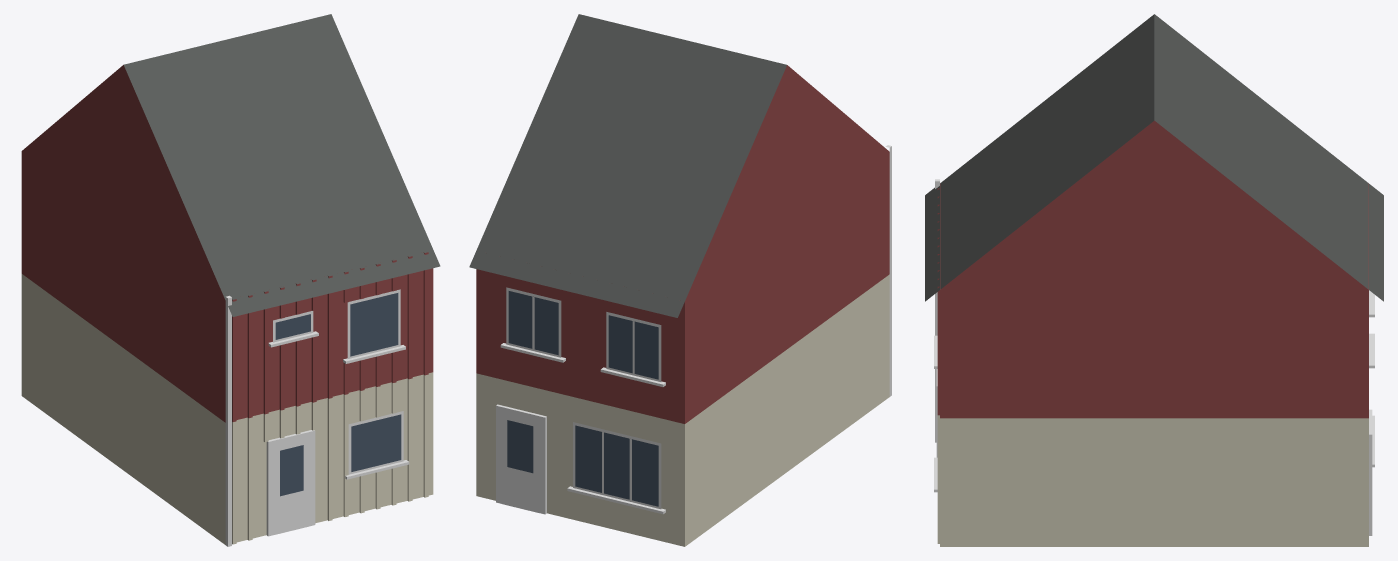
Rendered from zo-g3-red-clad__red__2__gable__long__solid.glb.
3 renders of one model, left to right at view 1: azimuth 30°, elevation 25°; view 2: azimuth 150°, elevation 25°; view 3: azimuth 270°, elevation 25°, orthographic. The views are drawn at different scales.
Parts seen in each view (by area): view 1: zo-g3-red-clad__red__2__gable__long__solid; view 2: zo-g3-red-clad__red__2__gable__long__solid; view 3: zo-g3-red-clad__red__2__gable__long__solid.
Part boxes in pixels (x1,y1,x2,y2): zo-g3-red-clad__red__2__gable__long__solid: (21, 14, 440, 546); zo-g3-red-clad__red__2__gable__long__solid: (469, 14, 891, 546); zo-g3-red-clad__red__2__gable__long__solid: (925, 14, 1383, 546).
Size of the model in its own units: 5 by 9.33 by 9.1.
